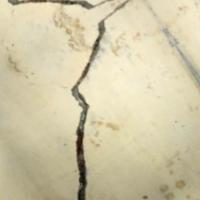crack: (60, 0, 134, 199)
